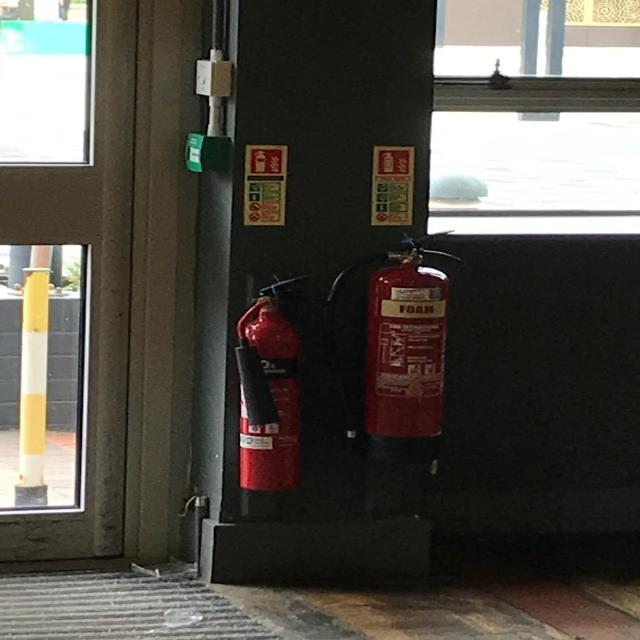fire_extinguisher: (316, 228, 468, 472), (223, 272, 317, 526)
